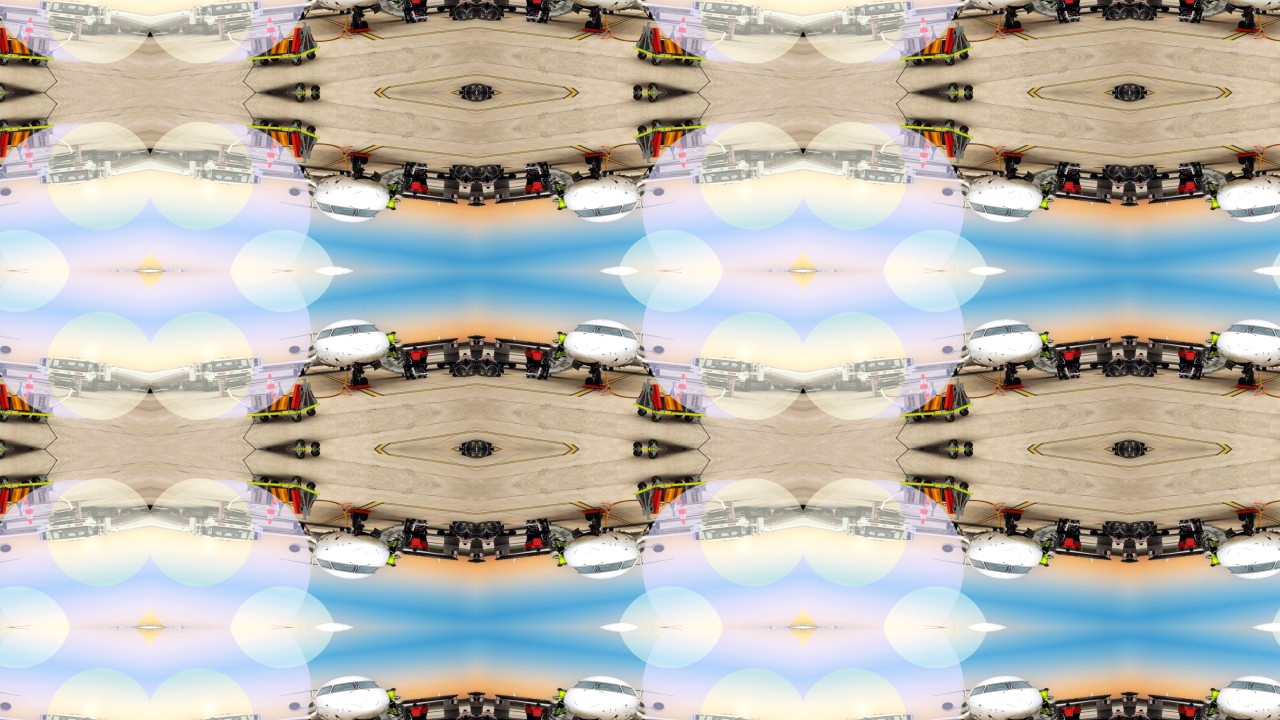chock: (287, 26, 306, 53), (647, 26, 666, 53), (941, 26, 960, 53), (287, 131, 306, 158), (647, 131, 666, 158), (941, 131, 960, 158), (287, 383, 306, 410), (647, 383, 666, 410), (941, 383, 960, 410), (287, 488, 306, 515), (647, 488, 666, 515), (941, 488, 960, 515), (0, 26, 12, 53), (0, 131, 12, 158), (0, 383, 12, 410), (0, 488, 12, 515), (17, 38, 32, 55), (921, 38, 936, 55), (17, 395, 32, 412), (921, 395, 936, 412), (17, 130, 32, 146), (921, 130, 936, 146), (17, 487, 32, 503), (921, 487, 936, 503), (268, 38, 282, 55), (671, 38, 685, 55), (268, 395, 282, 412), (671, 395, 685, 412), (9, 38, 23, 54), (276, 38, 290, 54), (663, 38, 677, 54), (930, 38, 944, 54), (9, 131, 23, 147), (268, 130, 282, 146), (276, 131, 290, 147), (671, 130, 685, 146), (663, 131, 677, 147), (930, 131, 944, 147), (9, 395, 23, 411), (276, 395, 290, 411), (663, 395, 677, 411), (930, 395, 944, 411), (9, 488, 23, 504), (268, 487, 282, 503), (276, 488, 290, 504), (671, 487, 685, 503), (663, 488, 677, 504), (930, 488, 944, 504)
wheel: (84, 22, 98, 35), (202, 22, 216, 35), (737, 22, 751, 35), (855, 22, 869, 35), (84, 149, 98, 162), (202, 149, 216, 162), (737, 149, 751, 162), (855, 149, 869, 162), (84, 379, 98, 392), (202, 379, 216, 392), (737, 379, 751, 392), (855, 379, 869, 392), (84, 506, 98, 519), (202, 506, 216, 519), (737, 506, 751, 519), (855, 506, 869, 519), (119, 151, 134, 159), (166, 151, 181, 159), (772, 151, 787, 159), (819, 151, 834, 159), (119, 508, 134, 516), (166, 508, 181, 516), (772, 508, 787, 516), (819, 508, 834, 516), (108, 150, 118, 161), (182, 150, 192, 161), (761, 150, 771, 161), (835, 150, 845, 161), (108, 507, 118, 518), (182, 507, 192, 518), (761, 507, 771, 518), (835, 507, 845, 518), (119, 26, 134, 33), (53, 25, 68, 32), (166, 26, 181, 33), (772, 26, 787, 33), (819, 26, 834, 33), (885, 25, 900, 32), (119, 383, 134, 390), (53, 382, 68, 389), (166, 383, 181, 390), (772, 383, 787, 390), (819, 383, 834, 390), (885, 382, 900, 389), (108, 24, 118, 34), (182, 24, 192, 34), (359, 19, 369, 29), (761, 24, 771, 34), (584, 19, 594, 29), (835, 24, 845, 34), (1012, 19, 1022, 29), (1238, 19, 1248, 29), (108, 381, 118, 391), (182, 381, 192, 391), (359, 376, 369, 386), (761, 381, 771, 391), (584, 376, 594, 386), (835, 381, 845, 391), (1012, 376, 1022, 386), (1238, 376, 1248, 386), (232, 25, 246, 32), (707, 25, 721, 32), (232, 382, 246, 389), (707, 382, 721, 389), (350, 20, 359, 30), (594, 20, 603, 30), (53, 153, 68, 159), (359, 156, 369, 165), (584, 156, 594, 165), (1012, 156, 1022, 165), (885, 153, 900, 159), (1238, 156, 1248, 165), (350, 377, 359, 387), (594, 377, 603, 387), (53, 510, 68, 516), (359, 513, 369, 522), (584, 513, 594, 522), (1012, 513, 1022, 522), (885, 510, 900, 516), (1238, 513, 1248, 522), (232, 153, 246, 159), (707, 153, 721, 159), (232, 510, 246, 516), (707, 510, 721, 516), (350, 155, 359, 164), (594, 155, 603, 164), (350, 512, 359, 521), (594, 512, 603, 521), (1004, 20, 1012, 30), (1248, 20, 1256, 30), (1004, 377, 1012, 387), (1248, 377, 1256, 387), (1004, 155, 1012, 164), (1248, 155, 1256, 164), (1004, 512, 1012, 521), (1248, 512, 1256, 521), (436, 6, 445, 12), (508, 6, 517, 12), (1090, 6, 1099, 12), (1161, 6, 1170, 12), (436, 173, 445, 179), (508, 173, 517, 179), (1090, 173, 1099, 179), (1161, 173, 1170, 179), (436, 363, 445, 369), (508, 363, 517, 369), (1090, 363, 1099, 369), (1161, 363, 1170, 369), (436, 530, 445, 536), (508, 530, 517, 536), (1090, 530, 1099, 536), (1161, 530, 1170, 536)
